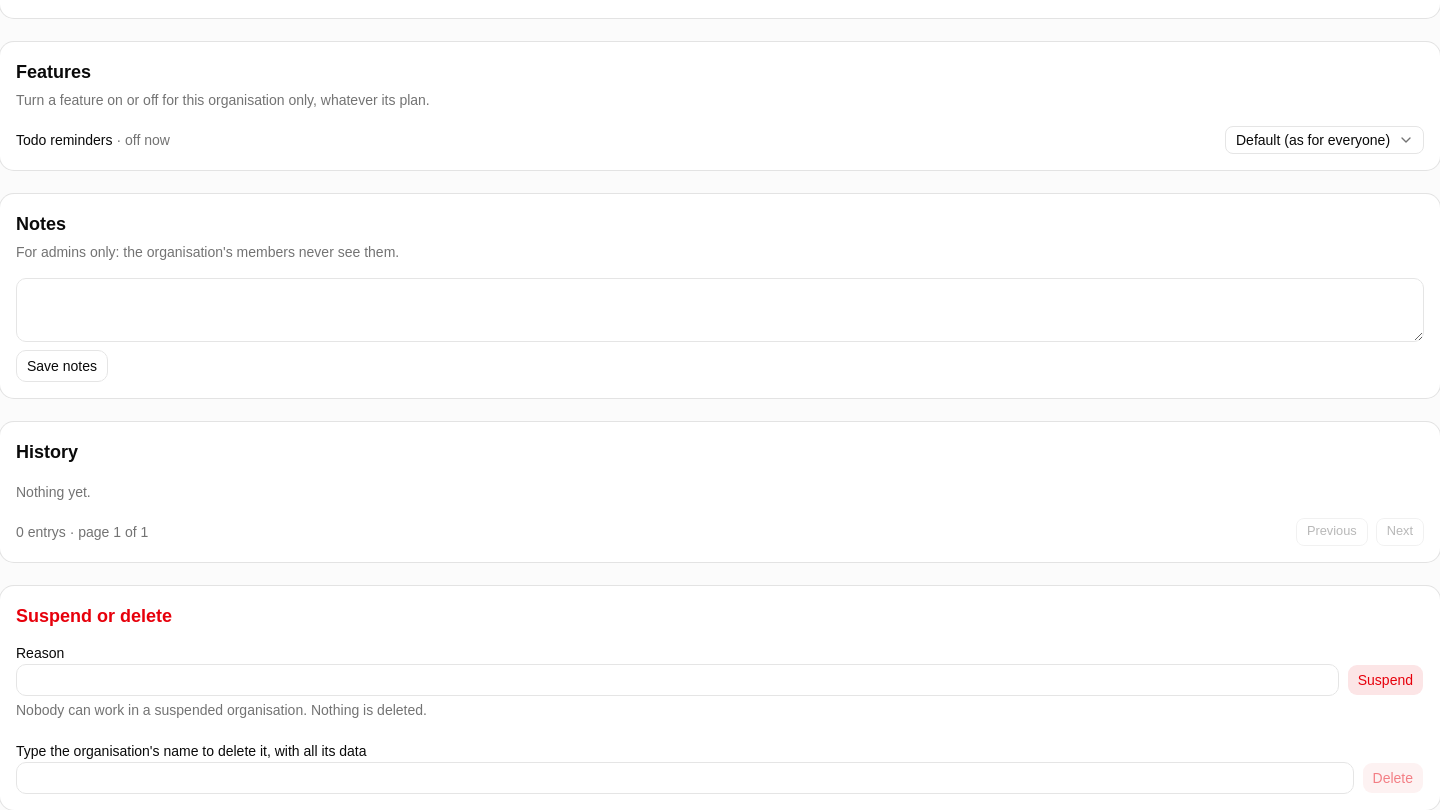
it: OrganisationDetailPage › deletes only once the name is typed
The width and height of the screenshot is (1440, 810).
(page scrolled)
Check: the button "Delete" is disabled, box [1362, 762, 1424, 794]
Type "Acme" into the field labelled "Type the organisation's name to delete it, with all its data" at (685, 778), box [16, 762, 1354, 794]
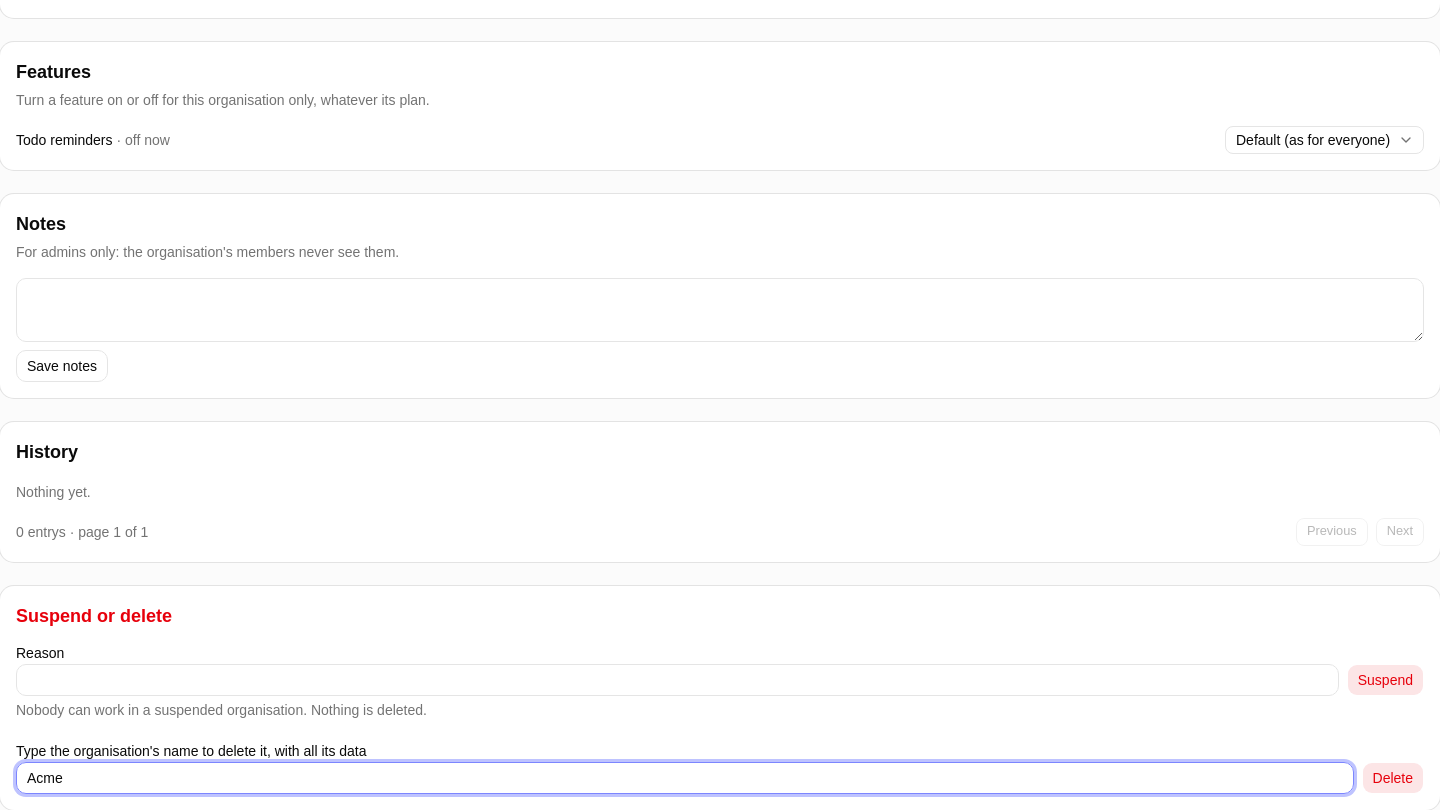
Check: the button "Delete" is enabled, box [1362, 762, 1424, 794]
